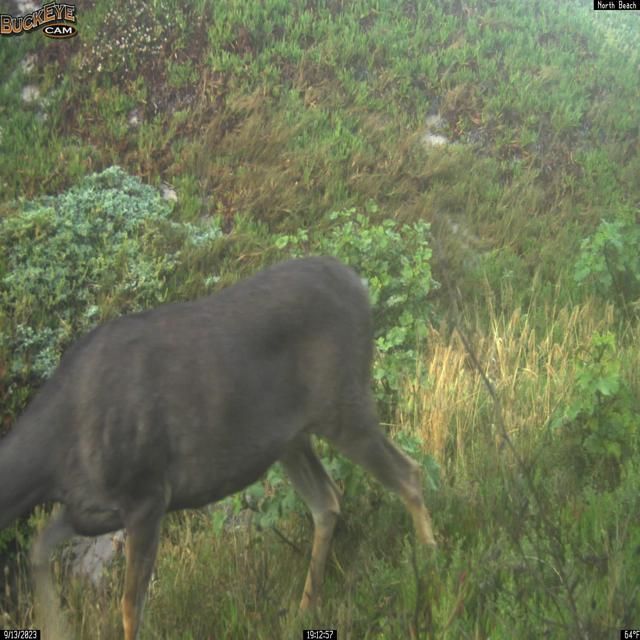deer: (0, 253, 440, 640)
